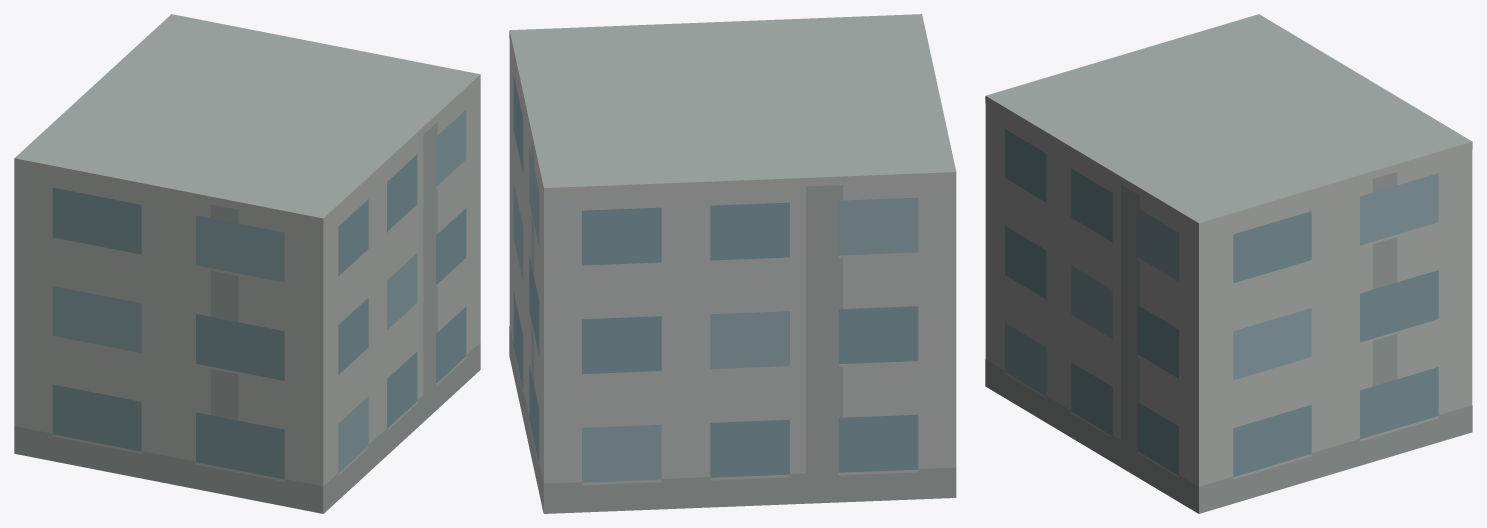
Rendered from residential-3d7da8e8-44ae-4dd6-bd49-6b84fdad381d.glb.
3 renders of one model, left to right at view 1: azimuth 30°, elevation 25°; view 2: azimuth 150°, elevation 25°; view 3: azimuth 270°, elevation 25°, orthographic. The views are drawn at different scales.
Visible parts, largest first — view 1: residential-3d7da8e8-44ae-4dd6-bd49-6b84fdad381d.tmp; view 2: residential-3d7da8e8-44ae-4dd6-bd49-6b84fdad381d.tmp; view 3: residential-3d7da8e8-44ae-4dd6-bd49-6b84fdad381d.tmp.
Boxes of the visible parts, x1=… form: residential-3d7da8e8-44ae-4dd6-bd49-6b84fdad381d.tmp: x1=14, y1=14, x2=480, y2=513; residential-3d7da8e8-44ae-4dd6-bd49-6b84fdad381d.tmp: x1=509, y1=14, x2=956, y2=513; residential-3d7da8e8-44ae-4dd6-bd49-6b84fdad381d.tmp: x1=985, y1=14, x2=1472, y2=513.
Bounding box in the file's own units: 14.13 × 9.15 × 13.9.
